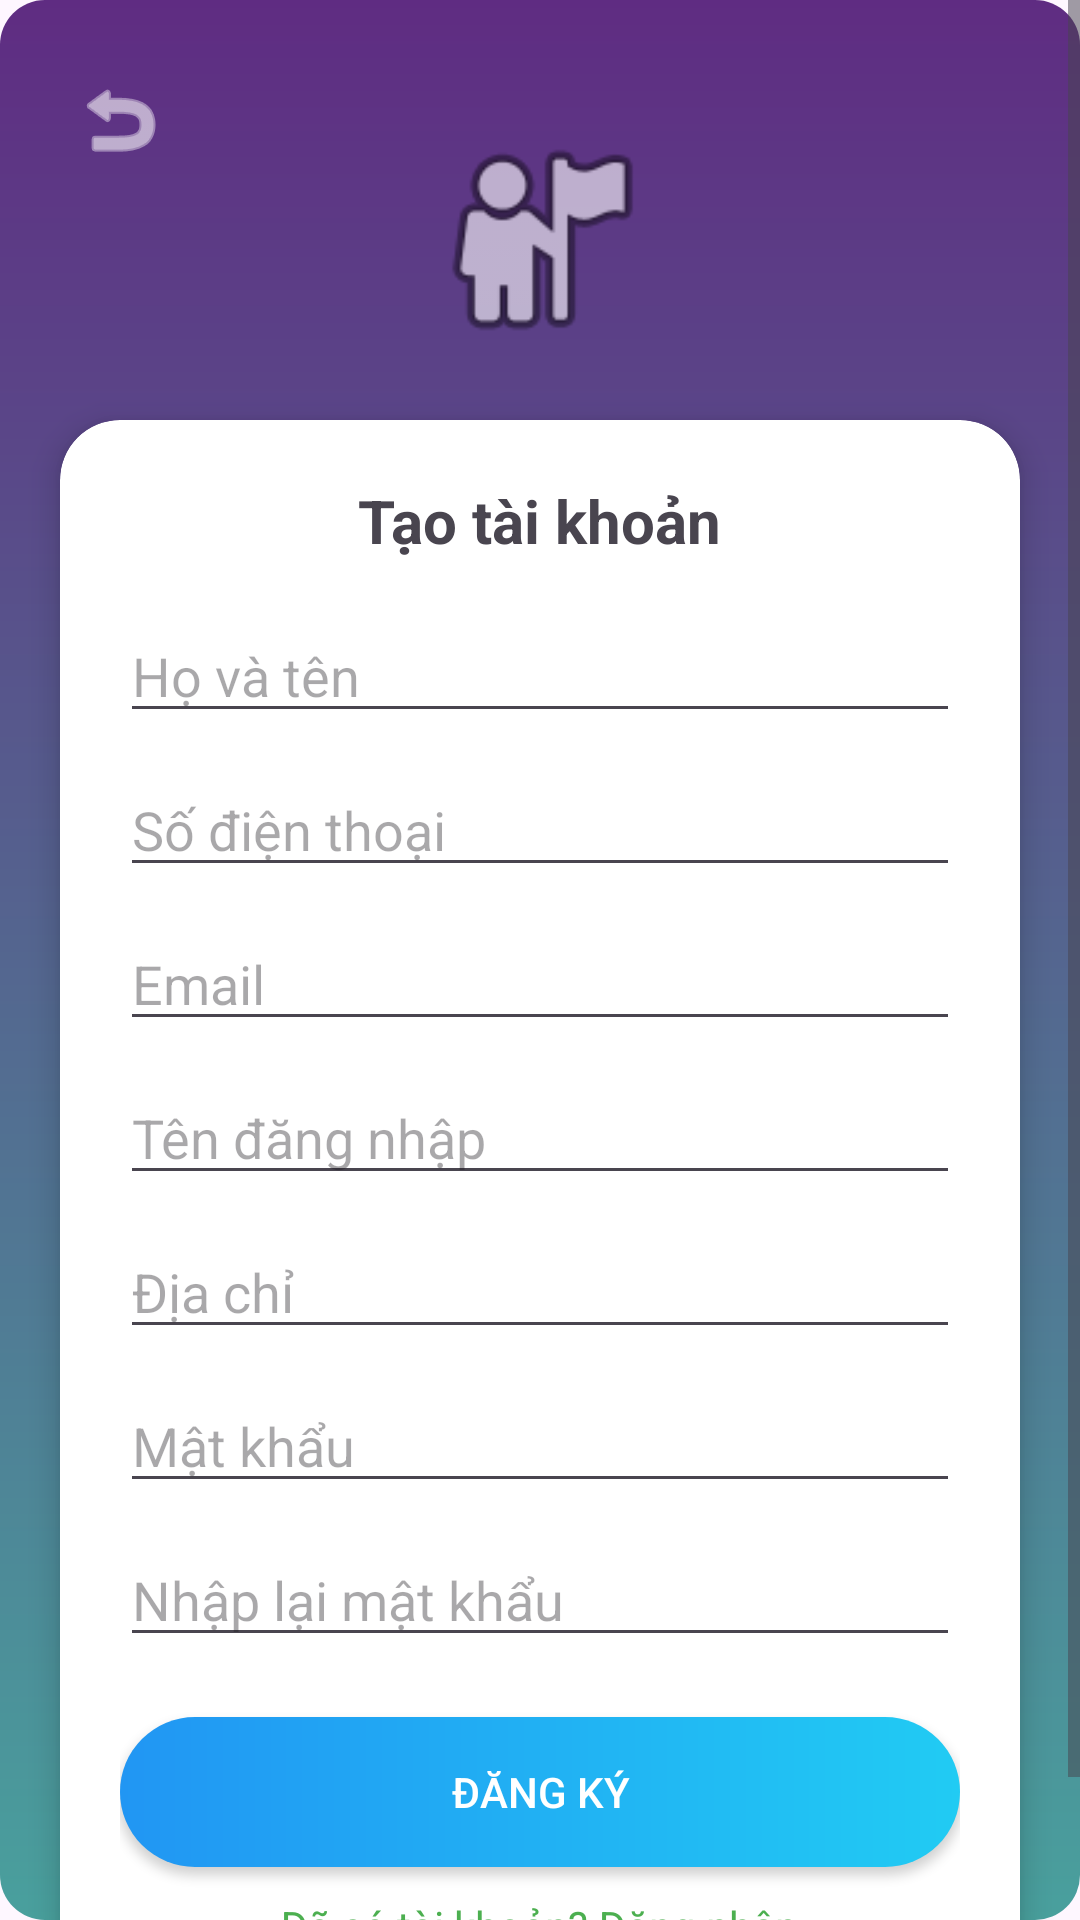

Locate icon controls on the screen. Image size 1080*1920, boxes as (x1, y1, x2, y2).
myplaces: (453, 151, 632, 329)
revert: (87, 89, 156, 152)
